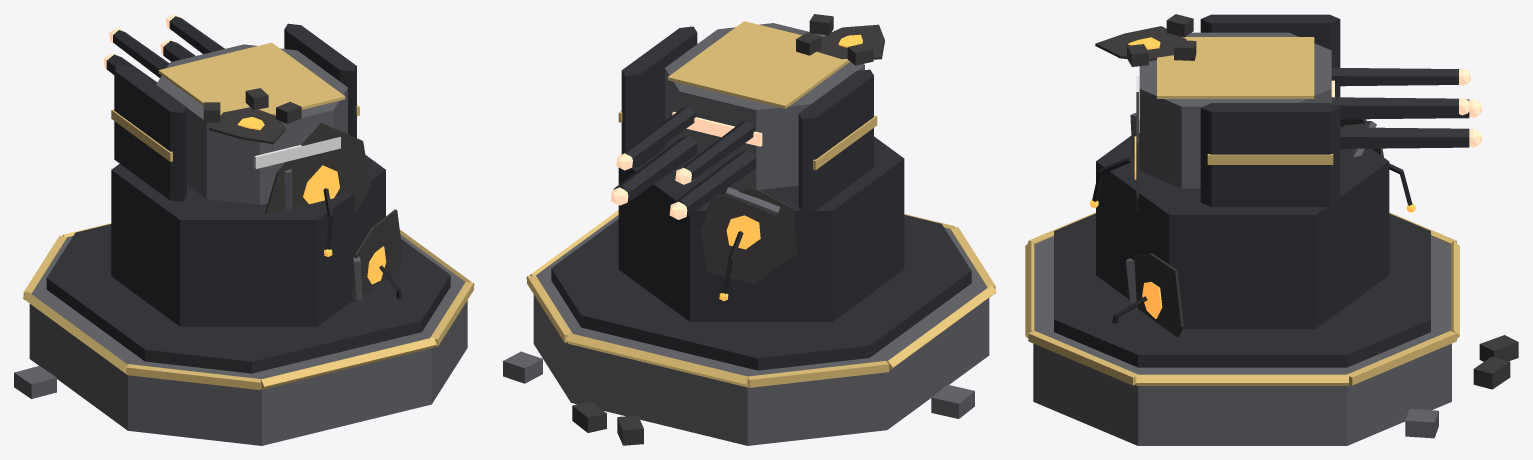
Rendered from Aegis_SentinelTurret.fbx.
3 views of the same model, side by side, from view 1: azimuth 30°, elevation 25°; view 2: azimuth 150°, elevation 25°; view 3: azimuth 270°, elevation 25° (orthographic). The views are drawn at different scales.
Visible parts, largest first — view 1: ST_Base, ST_Plinth, ST_PlinthTop, ST_Housing, ST_Trim, ST2_Shield-1, Aegis_SentinelTurret_DmgScorch1, ST2_Shield1, Aegis_SentinelTurret_DmgScorch0, ST_PlinthTrim0, Aegis_SentinelTurret_DmgScorch3, ST_PlinthTrim7 (+11 smaller); view 2: ST_Plinth, ST_Base, ST_PlinthTop, ST_Housing, ST_Trim, ST2_Shield-1, Aegis_SentinelTurret_DmgScorch2, ST2_Shield1, ST_PlinthTrim4, ST_Barrel1, ST_Barrel-1, ST_PlinthTrim5 (+16 smaller); view 3: ST_Base, ST_Plinth, ST_PlinthTop, ST2_Shield1, ST_Trim, ST_Housing, ST2_Shield-1, ST_Barrel1, ST_PlinthTrim2, Aegis_SentinelTurret_DmgScorch0, ST2_Barrel-1, ST2_Barrel1 (+12 smaller).
Part boxes in pixels (<box>): ST_Base: <box>111,155,385,326</box>; ST_Plinth: <box>29,234,467,445</box>; ST_PlinthTop: <box>46,224,450,373</box>; ST_Housing: <box>156,44,347,204</box>; ST_Trim: <box>158,42,345,115</box>; ST2_Shield-1: <box>114,65,186,201</box>; Aegis_SentinelTurret_DmgScorch1: <box>265,123,370,213</box>; ST2_Shield1: <box>284,23,356,137</box>; Aegis_SentinelTurret_DmgScorch0: <box>350,209,402,301</box>; ST_PlinthTrim0: <box>260,337,436,389</box>; Aegis_SentinelTurret_DmgScorch3: <box>209,107,285,144</box>; ST_PlinthTrim7: <box>126,364,261,389</box>; ST_Plinth: <box>533,215,989,445</box>; ST_Base: <box>618,136,904,321</box>; ST_PlinthTop: <box>551,215,971,370</box>; ST_Housing: <box>665,23,864,189</box>; ST_Trim: <box>667,21,849,108</box>; ST2_Shield-1: <box>798,69,873,211</box>; Aegis_SentinelTurret_DmgScorch2: <box>700,187,797,283</box>; ST2_Shield1: <box>621,26,697,167</box>; ST_PlinthTrim4: <box>565,333,748,387</box>; ST_Barrel1: <box>613,135,697,201</box>; ST_Barrel-1: <box>672,150,756,216</box>; ST_PlinthTrim5: <box>748,360,888,387</box>; ST_Base: <box>1096,126,1389,328</box>; ST_Plinth: <box>1033,236,1451,445</box>; ST_PlinthTop: <box>1054,213,1430,367</box>; ST2_Shield1: <box>1200,103,1340,206</box>; ST_Trim: <box>1157,37,1314,98</box>; ST_Housing: <box>1139,32,1331,188</box>; ST2_Shield-1: <box>1200,14,1340,97</box>; ST_Barrel1: <box>1340,127,1469,148</box>; ST_PlinthTrim2: <box>1136,374,1348,385</box>; Aegis_SentinelTurret_DmgScorch0: <box>1127,253,1183,336</box>; ST2_Barrel-1: <box>1331,67,1458,86</box>; ST2_Barrel1: <box>1331,97,1458,115</box>.
Bounding box in the file's own units: 1.37 × 0.96 × 1.41.
